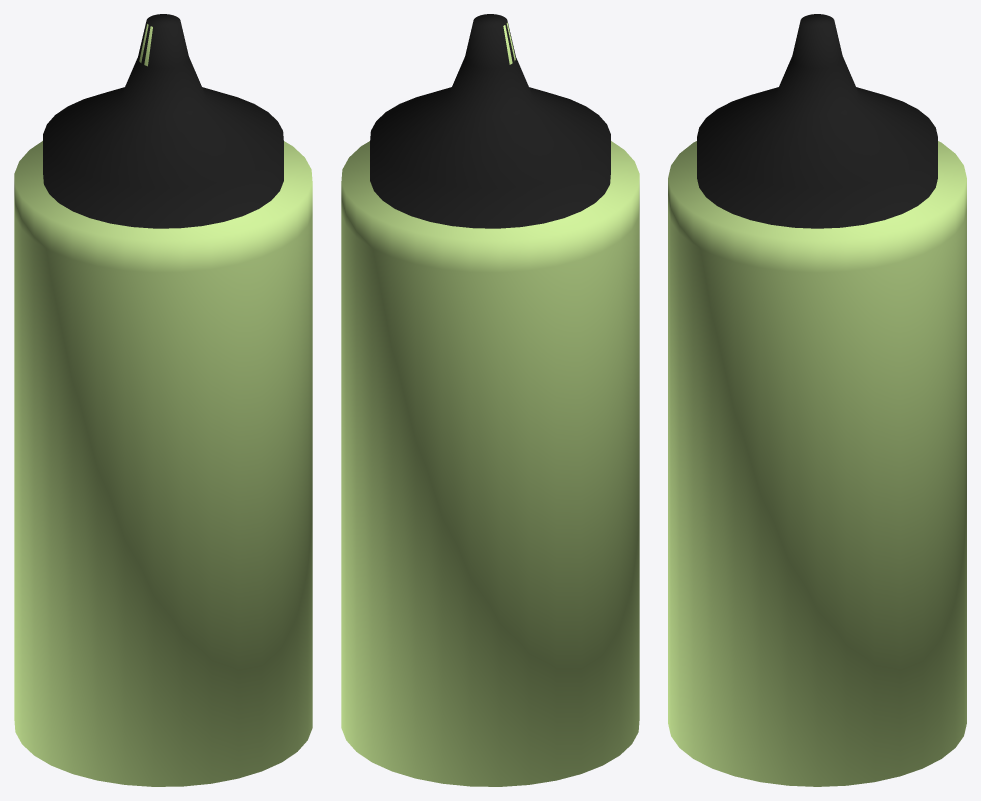
Rendered from make up 4.fbx.
The picture shows the model from 3 angles, left to right: view 1: azimuth 30°, elevation 25°; view 2: azimuth 150°, elevation 25°; view 3: azimuth 270°, elevation 25°; orthographic projection.
Visible parts, largest first — view 1: bottle_creamBottle_0; view 2: bottle_creamBottle_0; view 3: bottle_creamBottle_0.
Part boxes in pixels (x1,y1,x2,y2): bottle_creamBottle_0: (14, 14, 312, 786); bottle_creamBottle_0: (341, 14, 639, 786); bottle_creamBottle_0: (668, 14, 966, 786).
Bounding box in the file's own units: 203 × 526 × 203.
